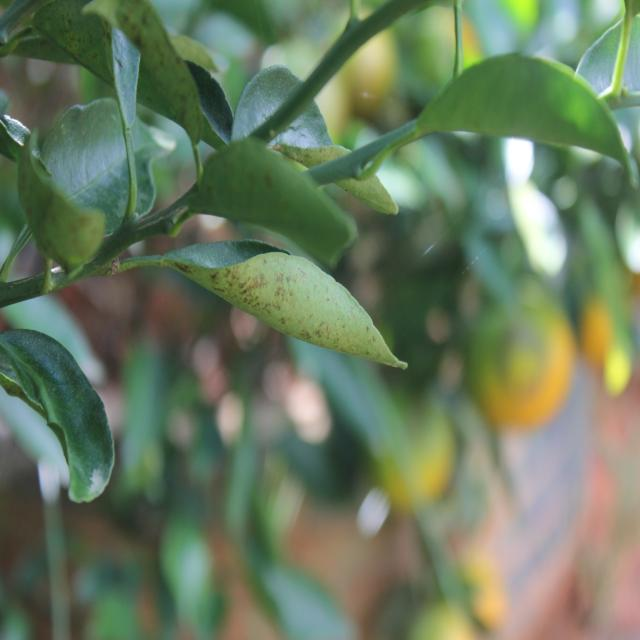melanose: (183, 230, 406, 370), (193, 120, 399, 250), (27, 0, 213, 125), (6, 154, 118, 285)
